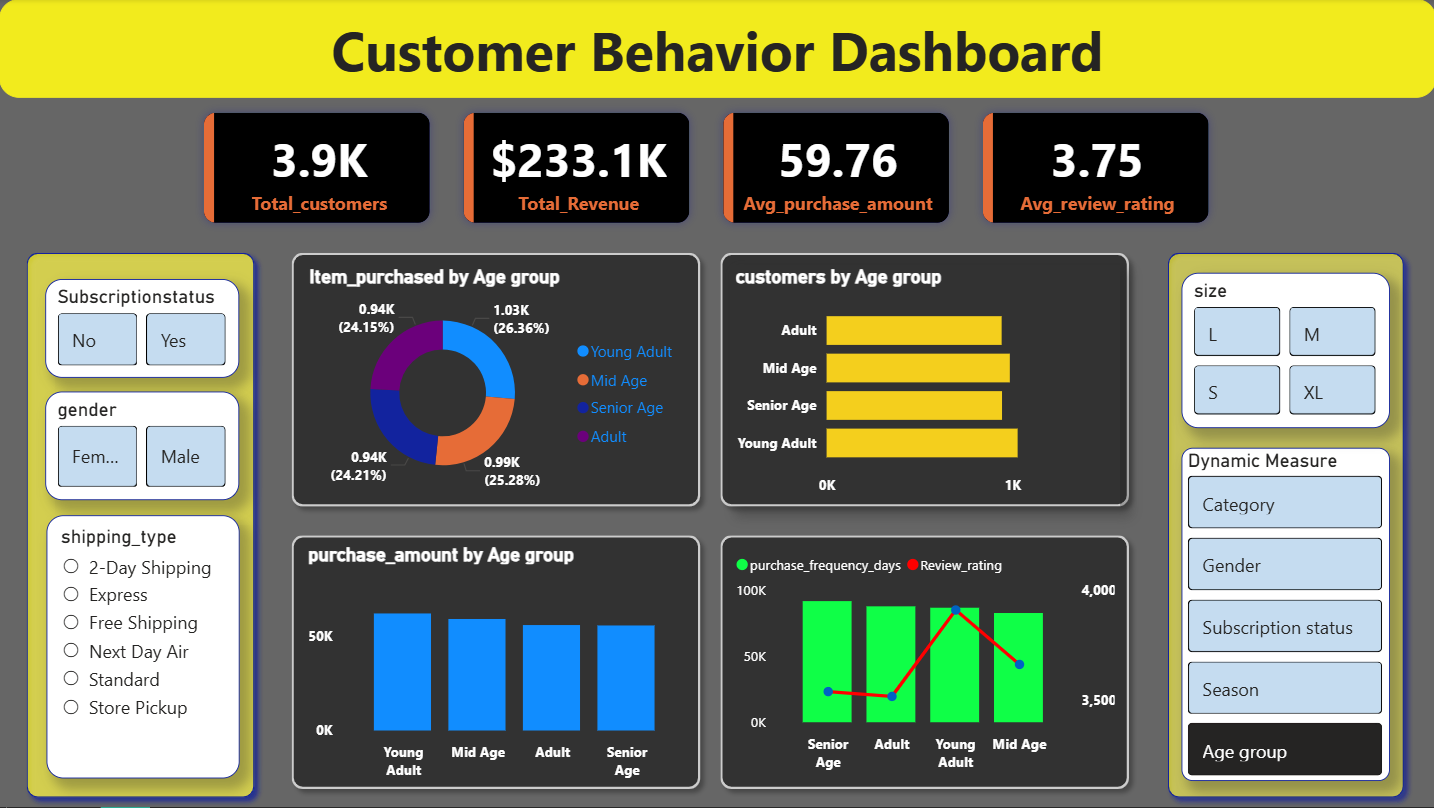

What the dashboard file says about the page in this screenshot:
{"tool":"powerbi","page":{"name":"Page 1","canvas":[1280,720],"ordinal":0},"visuals":[{"type":"cardVisual","fields":{"Data":["customer_behaviour customer.Total_customers","customer_behaviour customer.Total_Revenue","customer_behaviour customer.Avg_purchase_amount","customer_behaviour customer.Avg_review_rating"]},"box":[154.6,73.6,953.4,154.6],"z":0},{"type":"textbox","box":[0,0,1280,88.3],"z":1000},{"type":"shape","box":[251.6,217.2,381.9,243.8],"z":2000},{"type":"donutChart","fields":{"Category":["customer_behaviour customer.age_group"],"Y":["CountNonNull(customer_behaviour customer.item_purchased)"]},"box":[271.3,237.5,342.3,208.6],"z":3000},{"type":"shape","box":[251.6,468.5,381.9,243.8],"z":4000},{"type":"columnChart","fields":{"Category":["customer_behaviour customer.age_group"],"Y":["Sum(customer_behaviour customer.purchase_amount)"]},"box":[270.1,484.2,347.2,218.4],"z":5000},{"type":"shape","box":[633.5,217.2,381.9,243.8],"z":6000},{"type":"shape","box":[633.5,468.5,381.9,243.8],"z":7000},{"type":"barChart","fields":{"Category":["customer_behaviour customer.age_group"],"Y":["CountNonNull(customer_behaviour customer.customer_id)"]},"box":[651.7,237.5,347.2,214.7],"z":8000},{"type":"lineStackedColumnComboChart","fields":{"Y2":["Sum(customer_behaviour customer.review_rating)"],"Y":["Sum(customer_behaviour customer.purchase_frequency_days)"],"Category":["customer_behaviour customer.age_group"]},"box":[651.5,484.7,347.2,211],"z":9000},{"type":"shape","box":[16,217.2,220.9,503.1],"z":10000},{"type":"advancedSlicerVisual","fields":{"Values":["customer_behaviour customer.subscription_status"]},"box":[40.8,249.1,173,88.3],"z":11000},{"type":"advancedSlicerVisual","fields":{"Values":["customer_behaviour customer.gender"]},"box":[40.8,349.7,173,96.9],"z":12000},{"type":"shape","box":[1031.9,217.2,228.2,503.1],"z":13000},{"type":"advancedSlicerVisual","fields":{"Values":["Dynamic Measure.Dynamic Measure"]},"box":[1052.8,400,185.3,296.9],"z":14000},{"type":"listSlicer","fields":{"Values":["customer_behaviour customer.shipping_type"]},"box":[42,460.2,171.8,234.4],"z":15000},{"type":"advancedSlicerVisual","fields":{"Values":["customer_behaviour customer.size"]},"box":[1052.8,244.2,185.3,138.7],"z":16000}]}

Visuals, with their boxes in screenshot pixels (x1, y1, x2, y2), scaled from the page's 1280x720 canvas onto the 1434x808 screenshot:
cardVisual - customer_behaviour customer.Total_customers x customer_behaviour customer.Total_Revenue: <region>173, 83, 1241, 256</region>
textbox: <region>0, 0, 1433, 99</region>
shape: <region>282, 244, 710, 517</region>
donutChart - customer_behaviour customer.age_group x CountNonNull(customer_behaviour customer.item_purchased): <region>304, 267, 687, 501</region>
shape: <region>282, 526, 710, 799</region>
columnChart - customer_behaviour customer.age_group x Sum(customer_behaviour customer.purchase_amount): <region>303, 543, 692, 788</region>
shape: <region>710, 244, 1138, 517</region>
shape: <region>710, 526, 1138, 799</region>
barChart - customer_behaviour customer.age_group x CountNonNull(customer_behaviour customer.customer_id): <region>730, 267, 1119, 507</region>
lineStackedColumnComboChart - Sum(customer_behaviour customer.review_rating) x Sum(customer_behaviour customer.purchase_frequency_days): <region>730, 544, 1119, 781</region>
shape: <region>18, 244, 265, 807</region>
advancedSlicerVisual - customer_behaviour customer.subscription_status: <region>46, 280, 240, 379</region>
advancedSlicerVisual - customer_behaviour customer.gender: <region>46, 392, 240, 501</region>
shape: <region>1156, 244, 1412, 807</region>
advancedSlicerVisual - Dynamic Measure.Dynamic Measure: <region>1179, 449, 1387, 782</region>
listSlicer - customer_behaviour customer.shipping_type: <region>47, 516, 240, 779</region>
advancedSlicerVisual - customer_behaviour customer.size: <region>1179, 274, 1387, 430</region>
